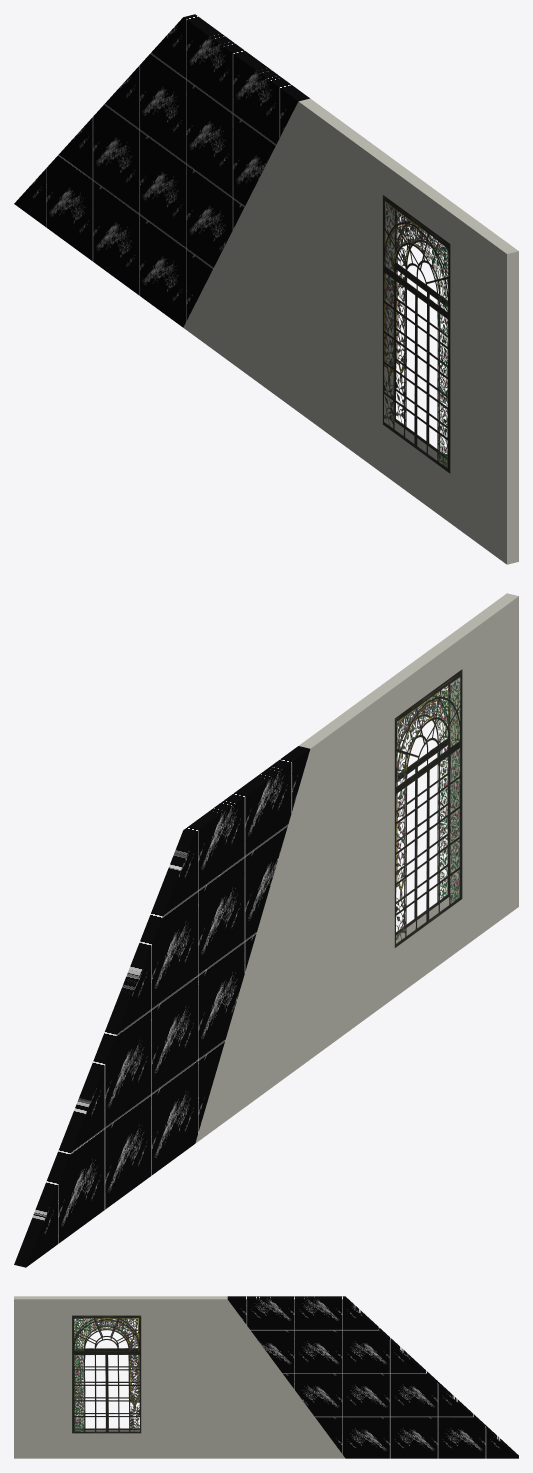
The model's file is A_axis_collider_1.glb.
The picture shows the model from 3 angles, top to bottom: view 1: azimuth 30°, elevation 25°; view 2: azimuth 150°, elevation 25°; view 3: azimuth 270°, elevation 25°; orthographic projection. The views are drawn at different scales.
Parts seen in each view (by area): view 1: A_Axis_collider.1; view 2: A_Axis_collider.1; view 3: A_Axis_collider.1.
Part boxes in pixels (x1,y1,x2,y2): A_Axis_collider.1: (14,14,518,564); A_Axis_collider.1: (14,593,518,1267); A_Axis_collider.1: (14,1296,518,1458).
Size of the model in its own units: 0.2 by 4.96 by 14.27.
2 materials, 2 textured.
